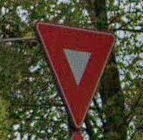cedeaza: (36, 22, 116, 129)
